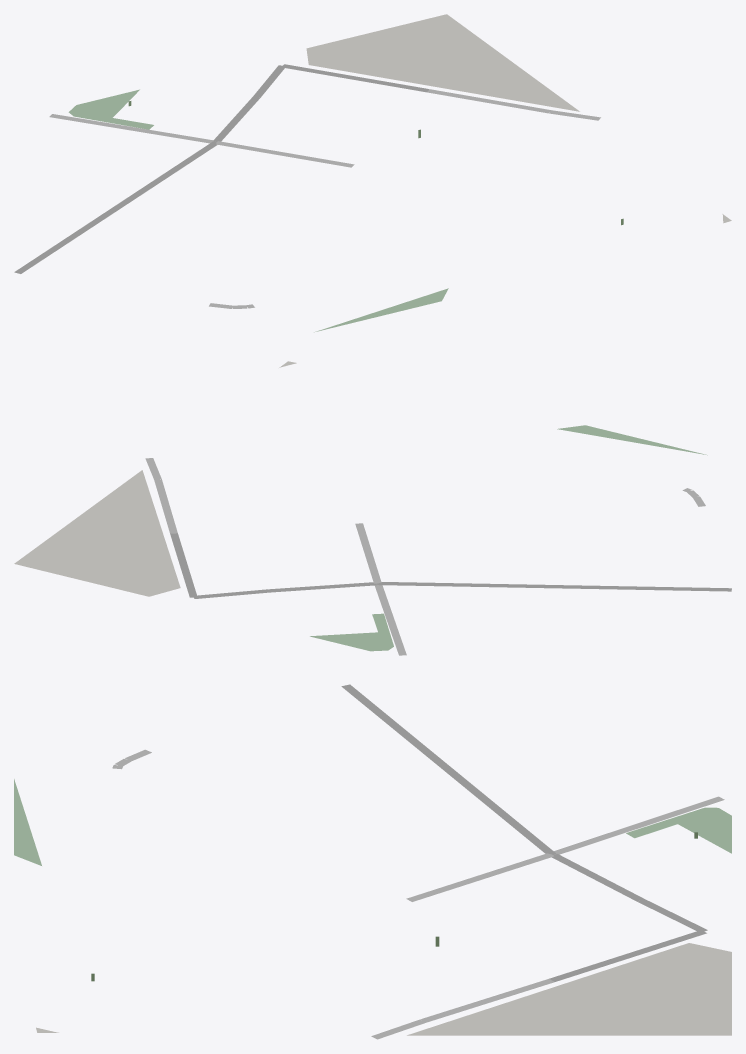
3 views of the same model, one above another, from view 1: azimuth 30°, elevation 25°; view 2: azimuth 150°, elevation 25°; view 3: azimuth 270°, elevation 25° (orthographic). The views are drawn at different scales.
Bounding box in the file's own units: 586 × 8.84 × 500.
